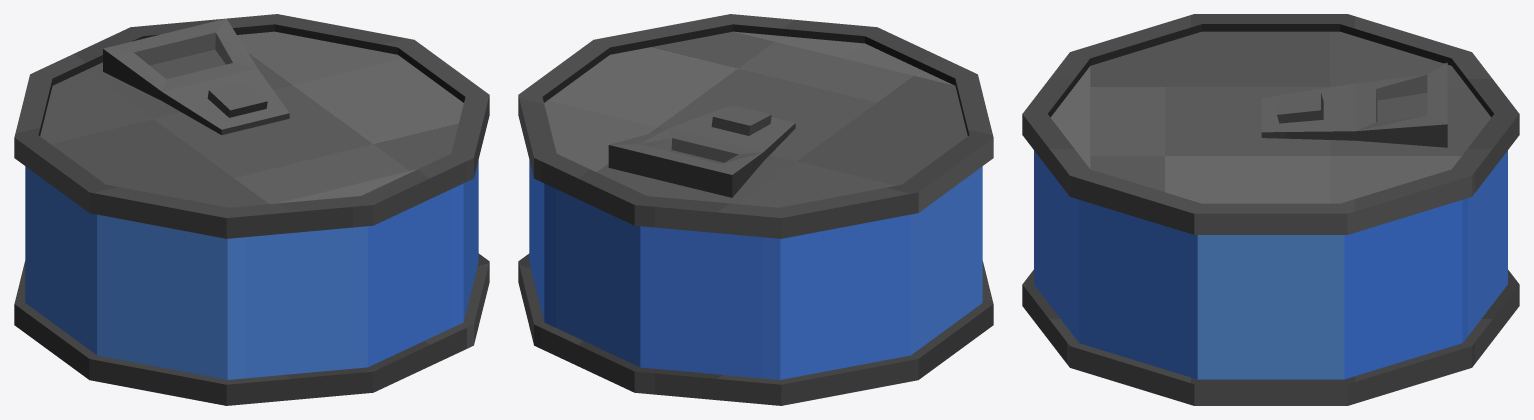
The model's file is latadeatumZefir.fbx.
The picture shows the model from 3 angles, left to right: view 1: azimuth 30°, elevation 25°; view 2: azimuth 150°, elevation 25°; view 3: azimuth 270°, elevation 25°; orthographic projection. The views are drawn at different scales.
Parts seen in each view (by area): view 1: Cylinder.005; view 2: Cylinder.005; view 3: Cylinder.005.
Boxes of the visible parts, x1=… form: Cylinder.005: x1=14, y1=14, x2=489, y2=405; Cylinder.005: x1=518, y1=14, x2=993, y2=405; Cylinder.005: x1=1022, y1=14, x2=1519, y2=405.
Size of the model in its own units: 17.96 by 8.89 by 18.89.
Materials: 1 (1 with a texture image).
